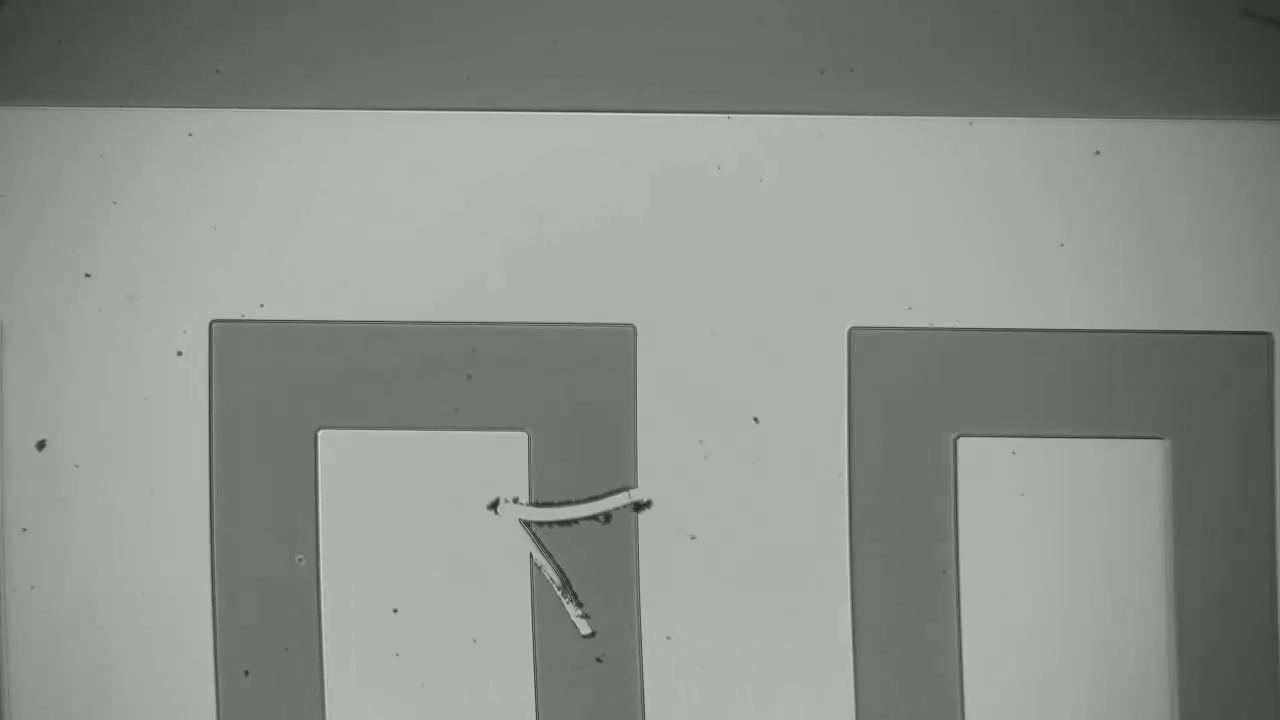Short_circuit: (478, 460, 666, 555)
